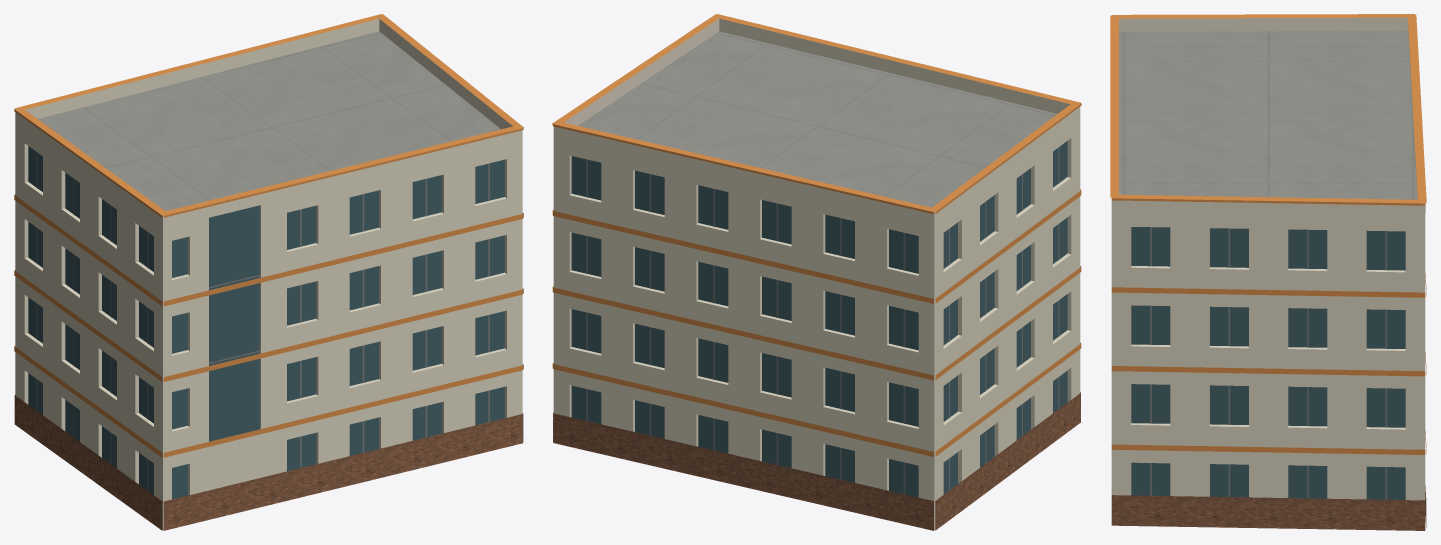
3 renders of one model, left to right at view 1: azimuth 30°, elevation 25°; view 2: azimuth 150°, elevation 25°; view 3: azimuth 270°, elevation 25°, orthographic. The views are drawn at different scales.
Visible parts, largest first — view 1: envLab__wall, envLab__roof, envLab__glass, envLab__trim, envLab__base, envLab__parapet, envLab__frame; view 2: envLab__wall, envLab__roof, envLab__glass, envLab__trim, envLab__base, envLab__parapet, envLab__frame; view 3: envLab__wall, envLab__roof, envLab__glass, envLab__trim, envLab__base, envLab__parapet, envLab__frame.
Part boxes in pixels (x1,y1,x2,y2): envLab__wall: (15,121,522,530); envLab__roof: (38,31,500,210); envLab__glass: (28,146,504,499); envLab__trim: (14,14,523,457); envLab__base: (14,394,523,530); envLab__parapet: (15,18,522,227); envLab__frame: (36,152,489,490); envLab__wall: (553,116,1080,530); envLab__roof: (578,31,1057,207); envLab__glass: (571,141,1067,497); envLab__trim: (552,14,1081,456); envLab__base: (553,392,1080,530); envLab__parapet: (553,18,1080,224); envLab__frame: (586,147,1059,494); envLab__wall: (1111,210,1425,500); envLab__roof: (1119,30,1416,199); envLab__glass: (1131,227,1405,499); envLab__trim: (1110,14,1426,454); envLab__base: (1111,486,1426,530); envLab__parapet: (1111,17,1425,215); envLab__frame: (1150,227,1387,499).
Size of the model in its own units: 18.61 by 15 by 13.14.
7 materials, 2 textured.
